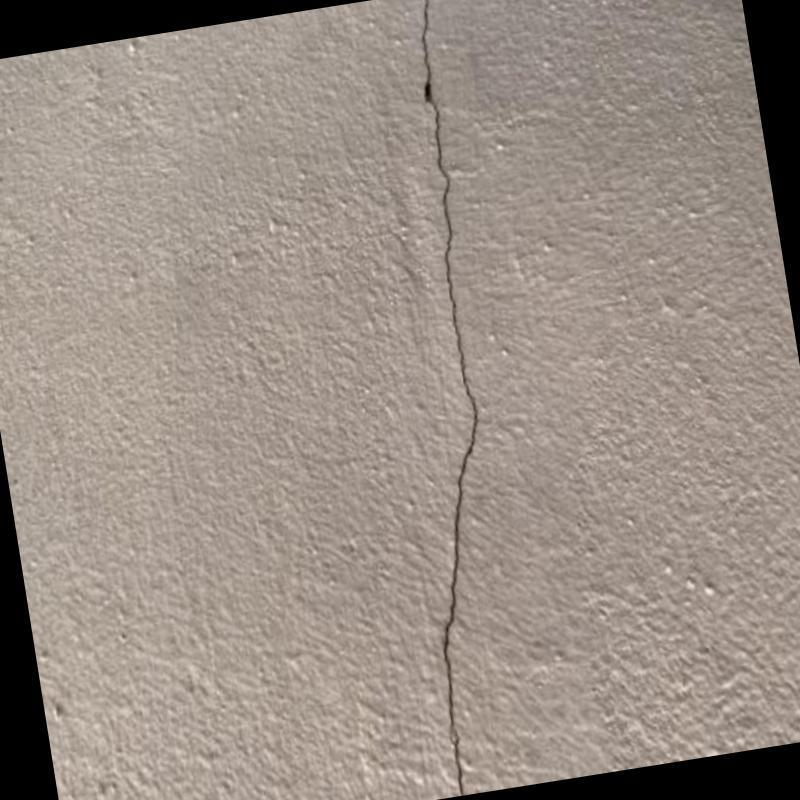crack: (419, 0, 479, 792)
